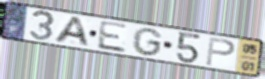3: (29, 9, 56, 43)
5: (175, 30, 203, 65)
A: (52, 16, 92, 48)
E: (96, 20, 130, 54)
G: (131, 27, 164, 58)
P: (204, 36, 237, 67)
